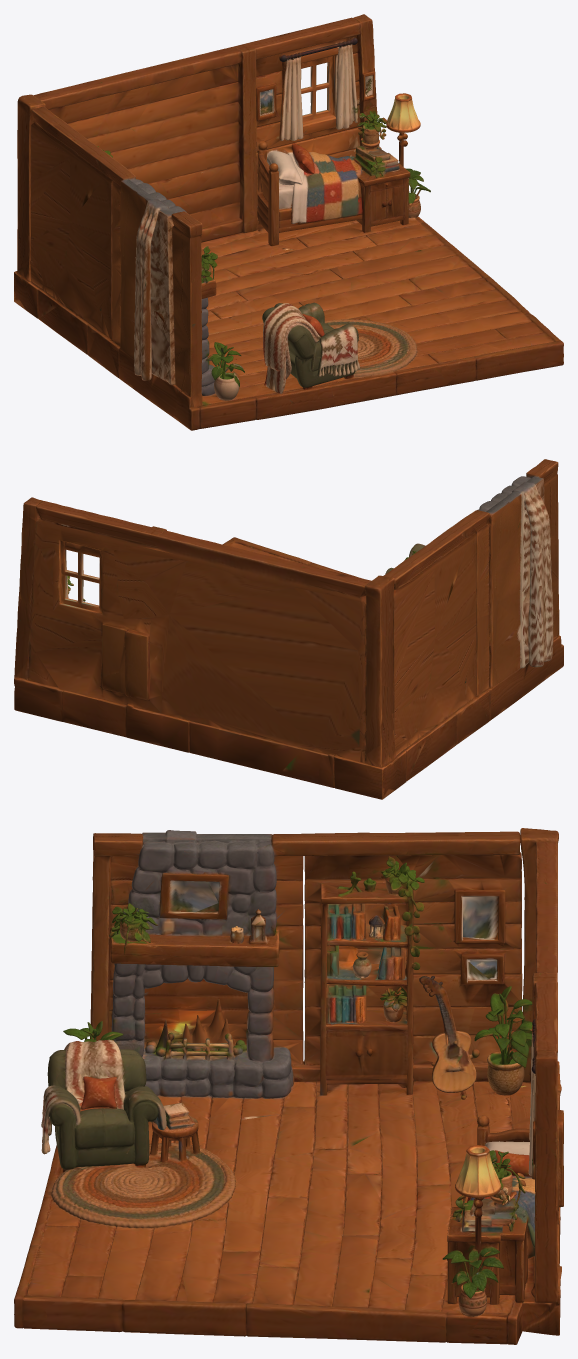
The model's file is home.glb.
3 views of the same model, one above another, from view 1: azimuth 30°, elevation 25°; view 2: azimuth 150°, elevation 25°; view 3: azimuth 270°, elevation 25° (orthographic). The views are drawn at different scales.
Visible parts, largest first — view 1: Mesh_0; view 2: Mesh_0; view 3: Mesh_0.
Boxes of the visible parts, x1,y1,x2,y2 form: Mesh_0: (14, 14, 563, 430); Mesh_0: (14, 459, 563, 799); Mesh_0: (14, 828, 563, 1344).
Bounding box in the file's own units: 1 × 0.4873 × 0.8812.
1 material, 1 textured.
